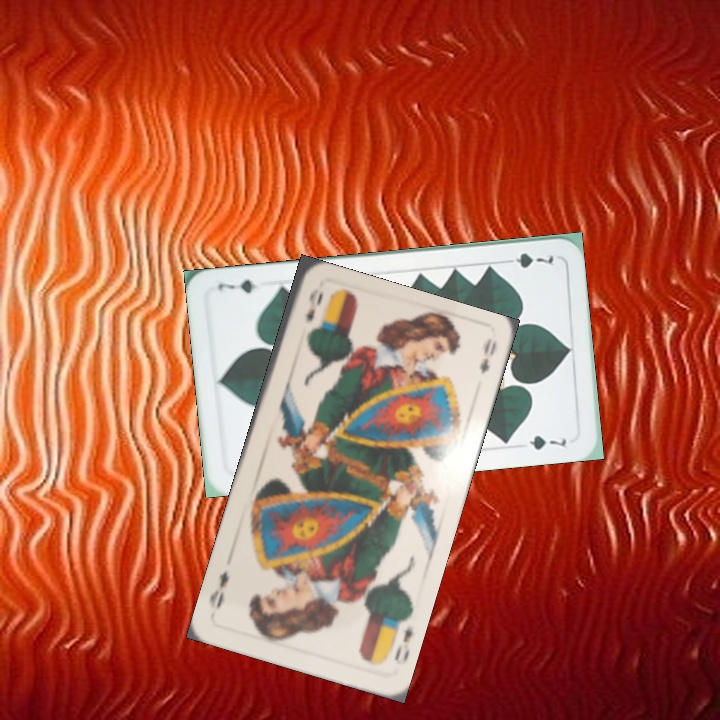EO: (384, 614, 416, 664), (301, 284, 325, 325)
G7: (499, 249, 556, 271)
